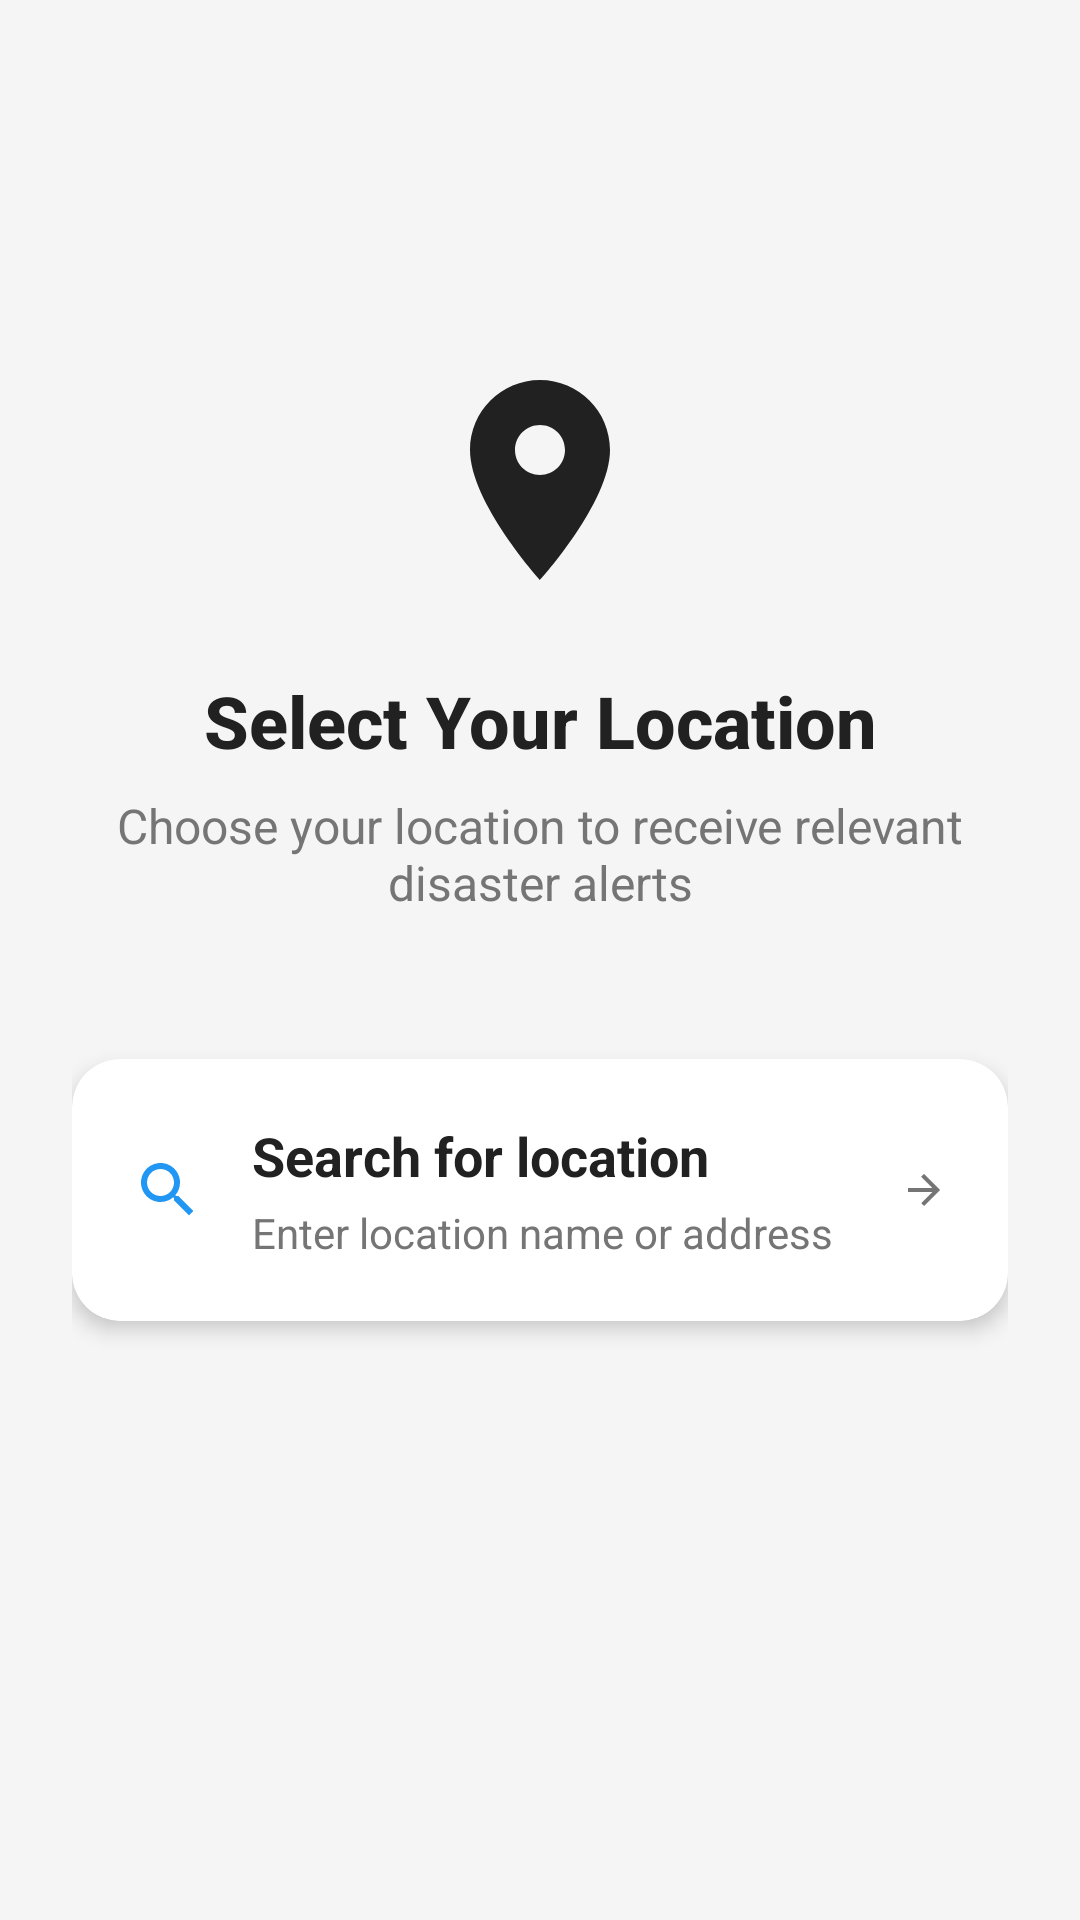

Icon bounding boxes for this 1080*1920 phone screenshot, format [left=x1, top=y1, right=x2, bottom=y2]:
Arrow: [left=908, top=1174, right=940, bottom=1206]
